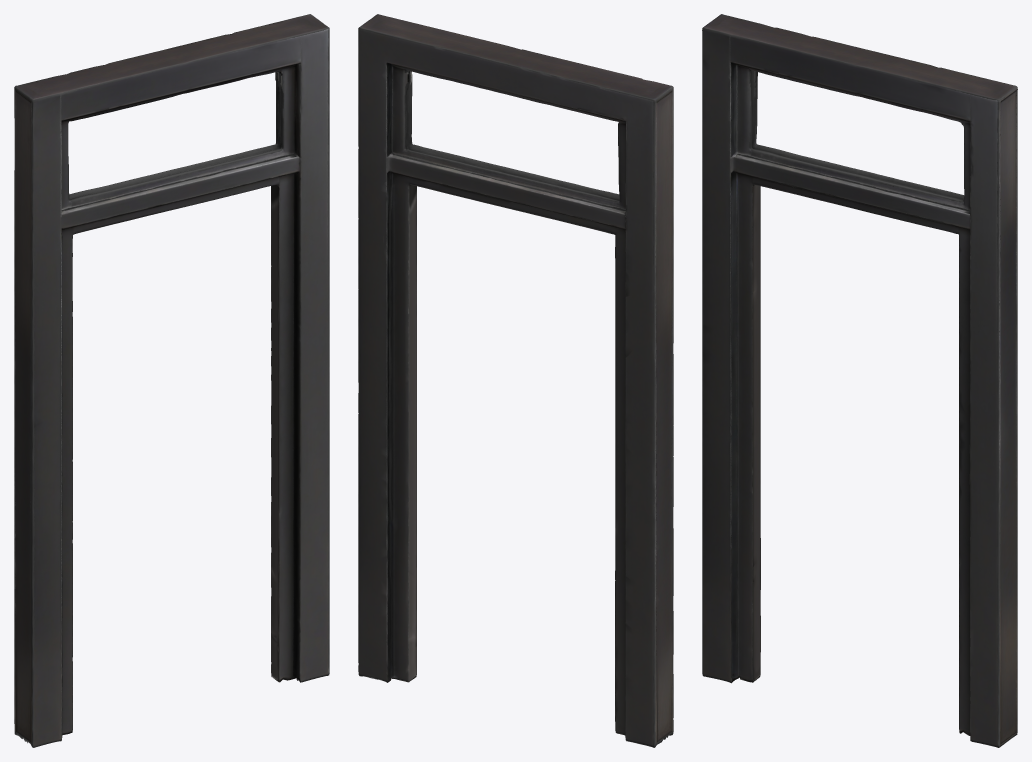
Rendered from rahmen-mit-oberlicht.glb.
3 views of the same model, side by side, from view 1: azimuth 30°, elevation 25°; view 2: azimuth 150°, elevation 25°; view 3: azimuth 330°, elevation 25° (orthographic).
Size of the model in its own units: 0.9604 by 2 by 0.1058.
1 material, 1 textured.
